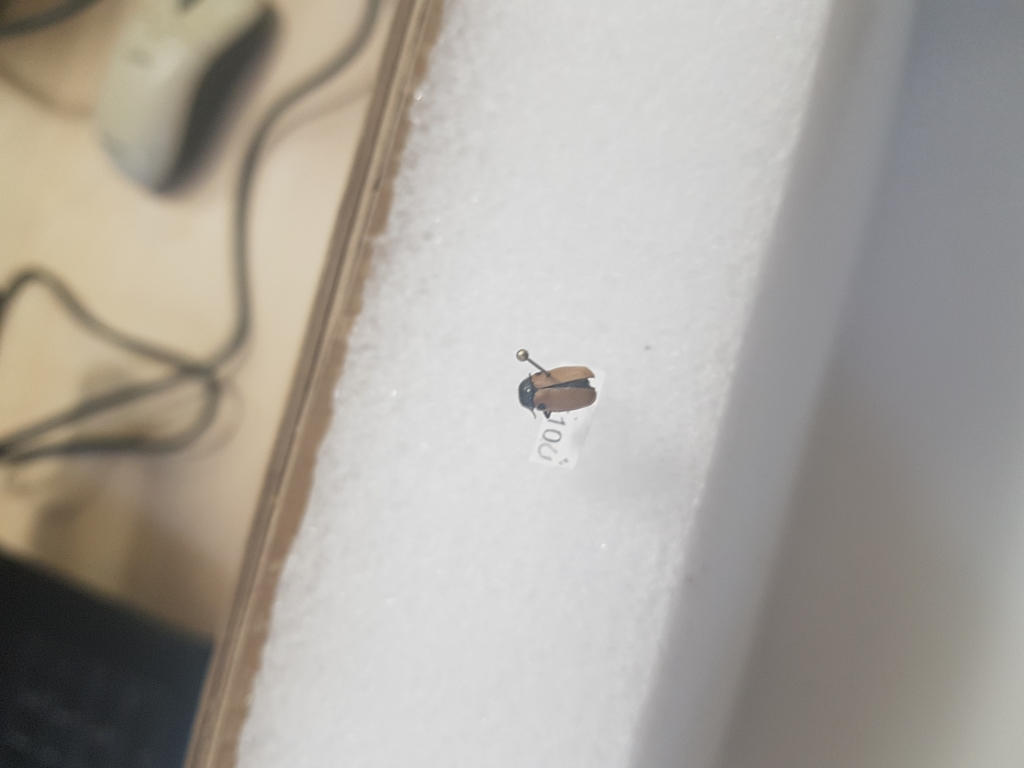Labidostomis_longimana: (513, 362, 599, 424)
